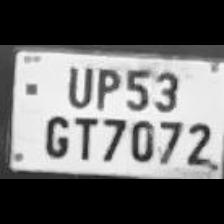0: (125, 113, 154, 163)
2: (180, 117, 212, 167)
3: (150, 66, 180, 111)
5: (121, 62, 151, 110)
7: (96, 113, 124, 164), (154, 115, 182, 165)
G: (39, 110, 71, 158)
P: (91, 62, 121, 110)
T: (70, 112, 98, 160)
U: (62, 60, 94, 108)
